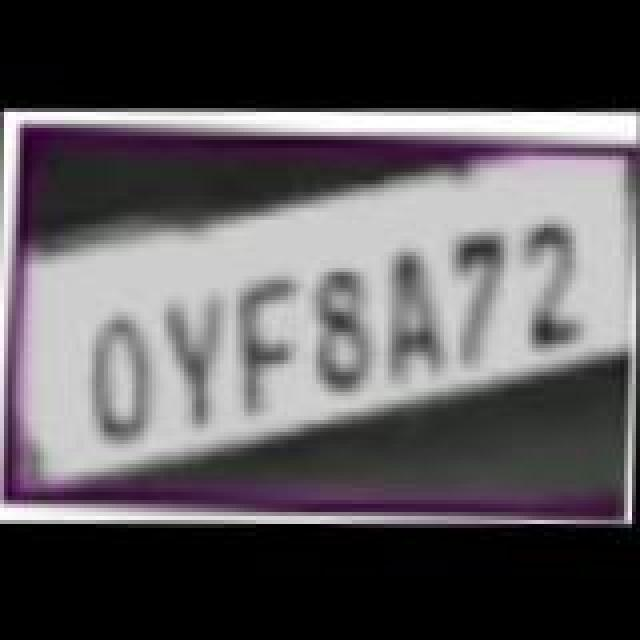2: (520, 222, 588, 350)
7: (448, 230, 516, 362)
8: (310, 264, 374, 392)
A: (380, 246, 448, 382)
F: (236, 270, 304, 410)
O: (90, 308, 158, 440)
Y: (164, 288, 232, 424)
